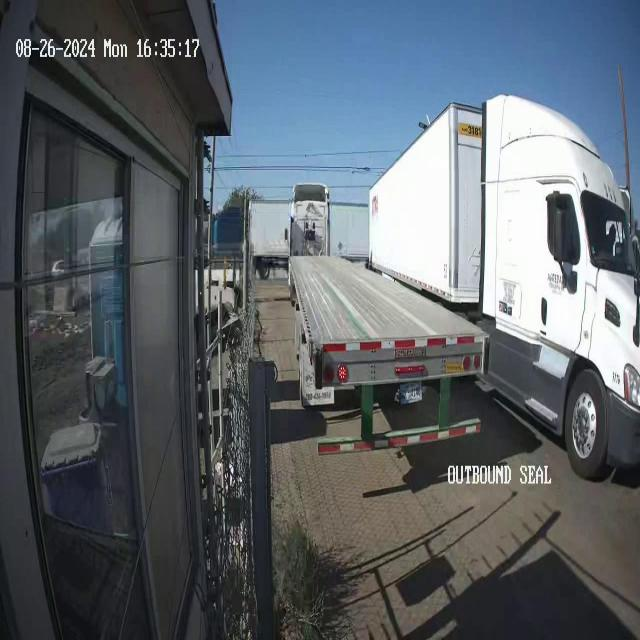TRUCK_IN: (366, 85, 640, 449)
TRUCK_OUT: (283, 172, 498, 471)
